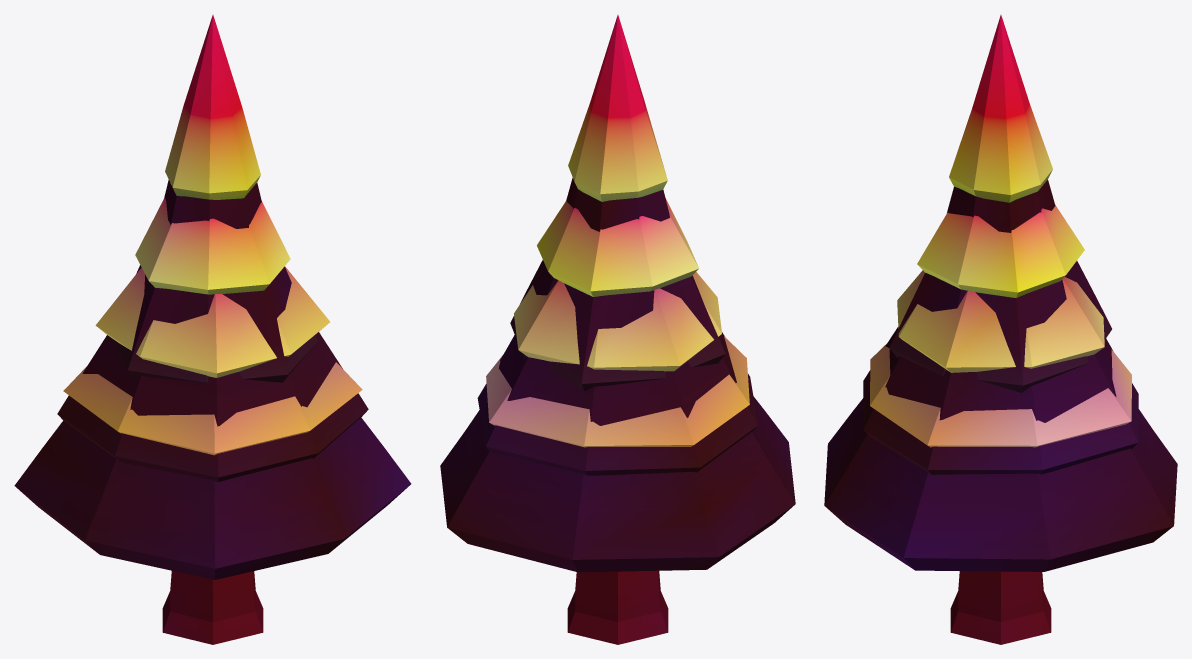
Rendered from Tree_Pine_Snow_Large.fbx.
3 renders of one model, left to right at view 1: azimuth 30°, elevation 25°; view 2: azimuth 150°, elevation 25°; view 3: azimuth 270°, elevation 25°, orthographic.
Parts seen in each view (by area): view 1: Tree_Pine_Snow_Large; view 2: Tree_Pine_Snow_Large; view 3: Tree_Pine_Snow_Large.
Part boxes in pixels (x1,y1,x2,y2): Tree_Pine_Snow_Large: [14, 15, 411, 644]; Tree_Pine_Snow_Large: [440, 15, 795, 644]; Tree_Pine_Snow_Large: [824, 15, 1177, 644].
Size of the model in its own units: 3.17 by 5.99 by 3.17.
